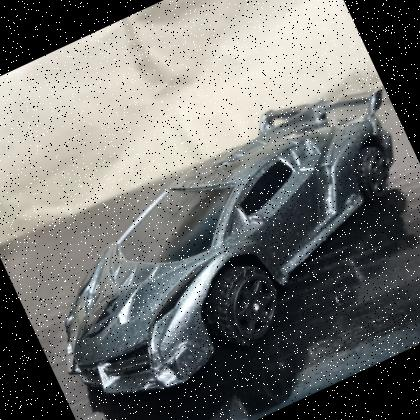Car: (65, 89, 396, 411)
